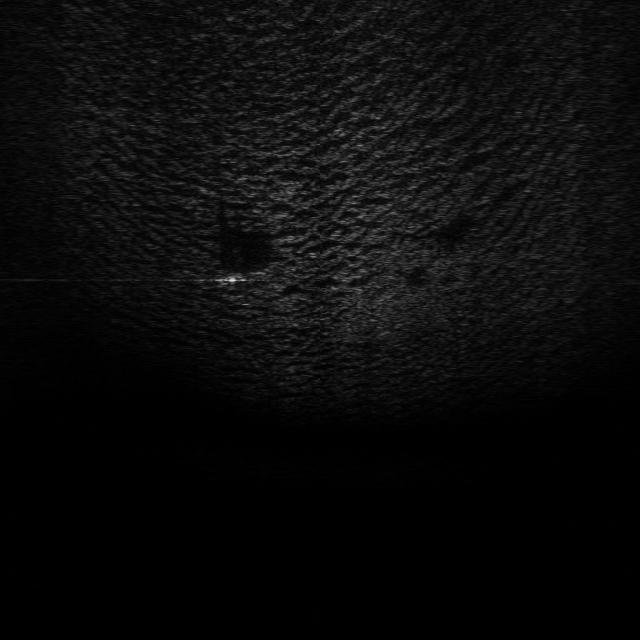plane: (214, 260, 280, 288)
